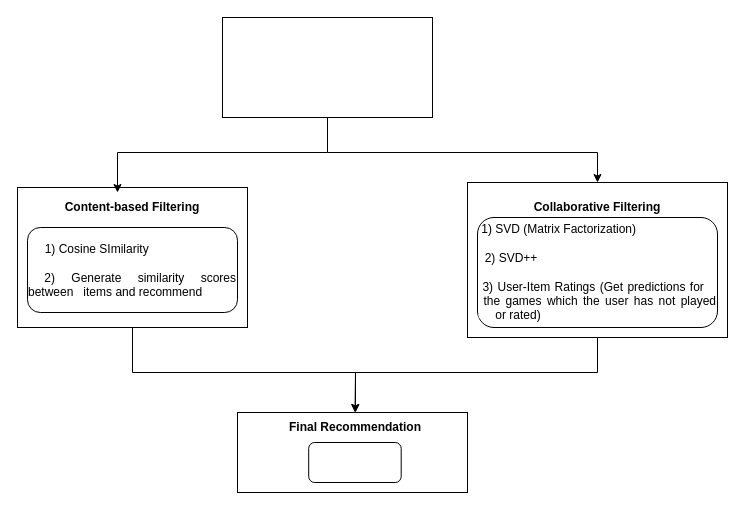
Some shapes in this 745 by 510 pixel diagram are drawn without their labels. The shapes that lost their labels are listed below. From the top down, each one's centre as x and y in pixels, then its label:
(x=327, y=67): Hybrid Recommendation System
(x=354, y=462): Recommended Games
